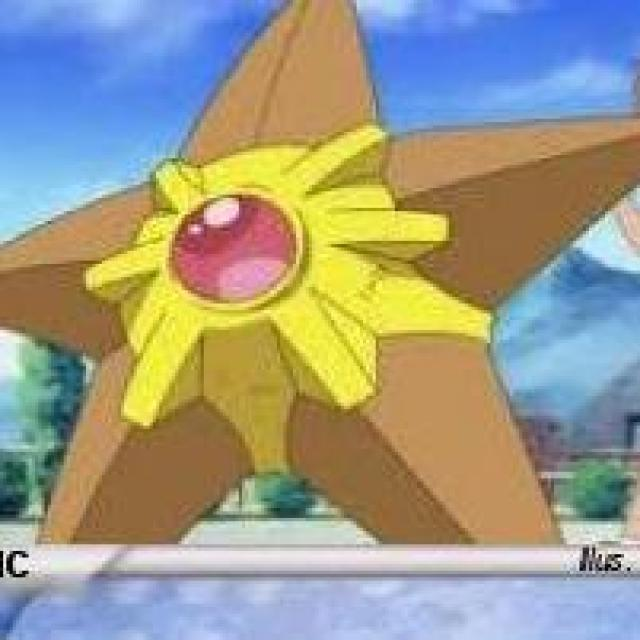Staryu: (0, 0, 640, 576)
